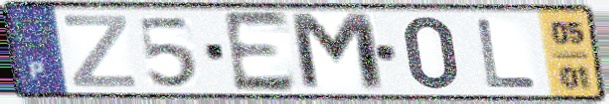0: (400, 14, 462, 92)
5: (135, 14, 201, 89)
E: (219, 9, 300, 95)
L: (473, 16, 541, 91)
M: (286, 10, 391, 95)
Z: (60, 13, 139, 90)
